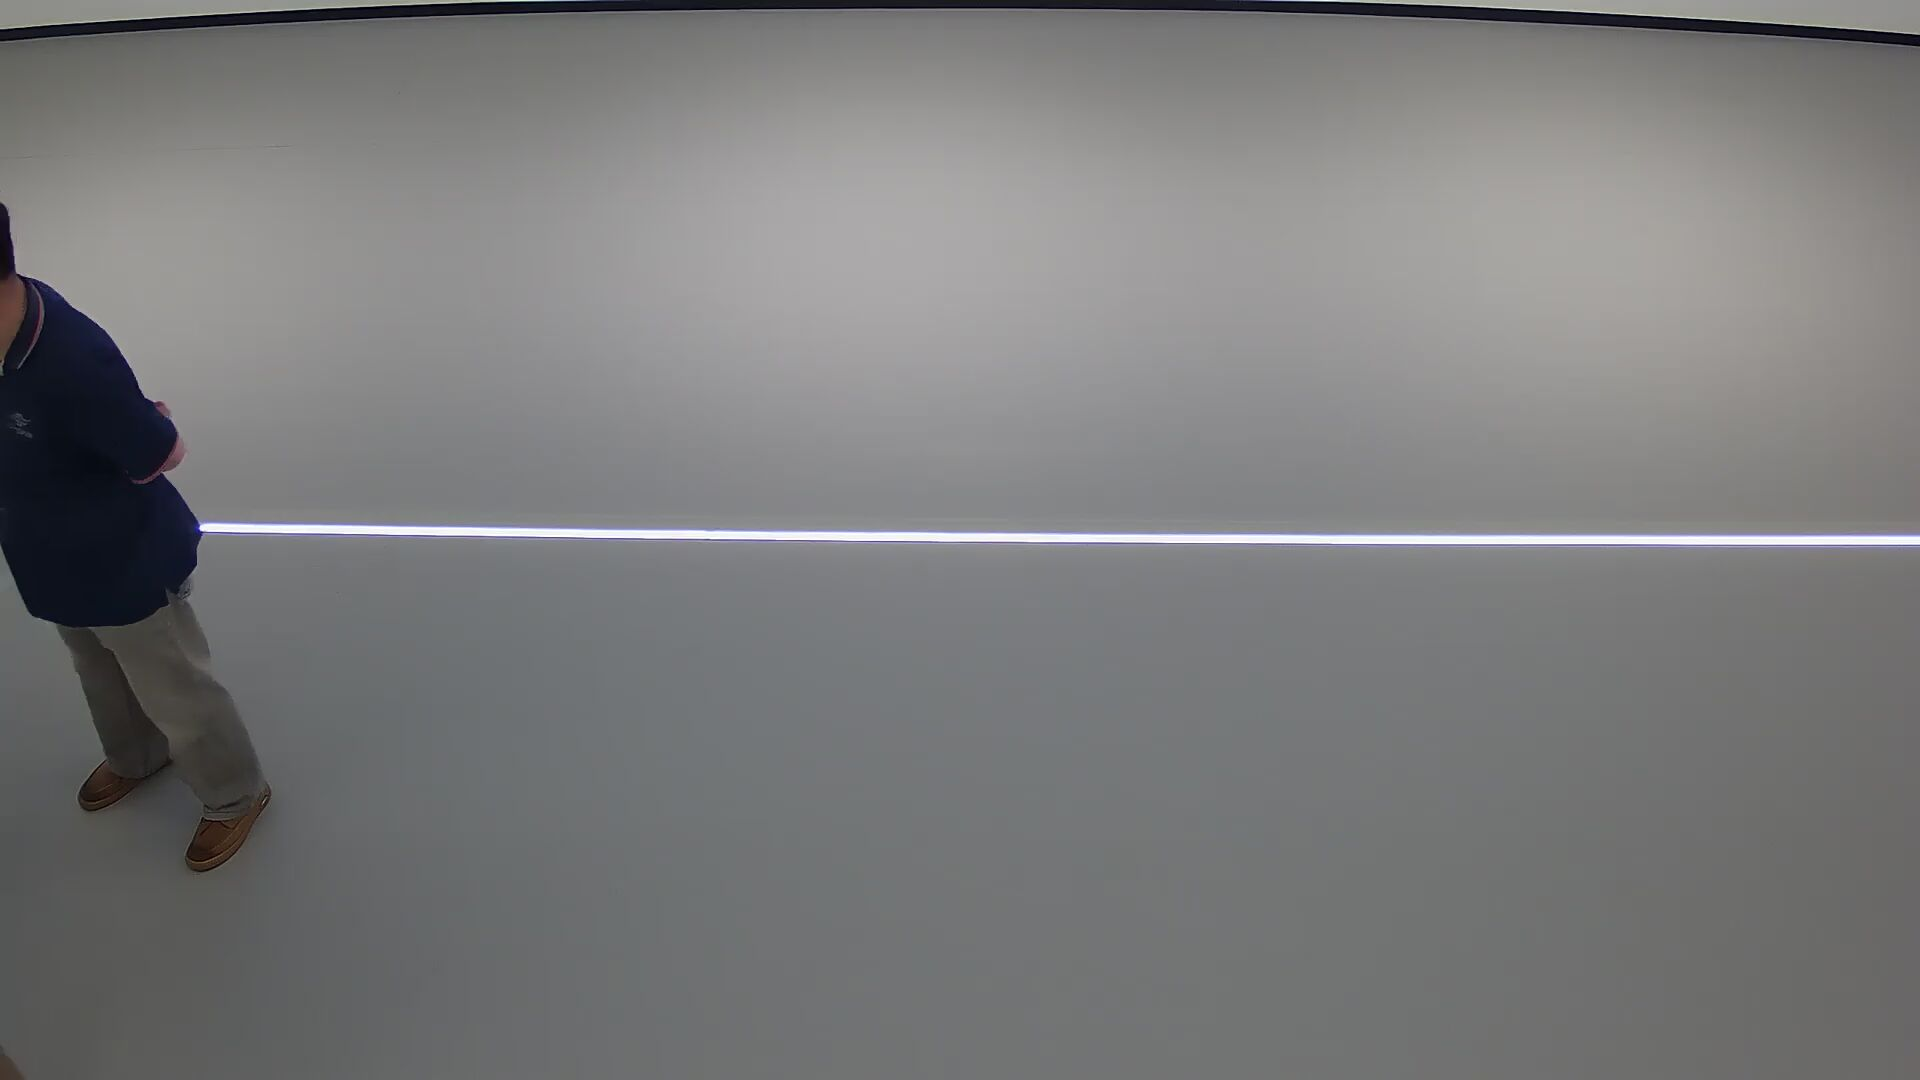normal: (1, 190, 289, 880)
